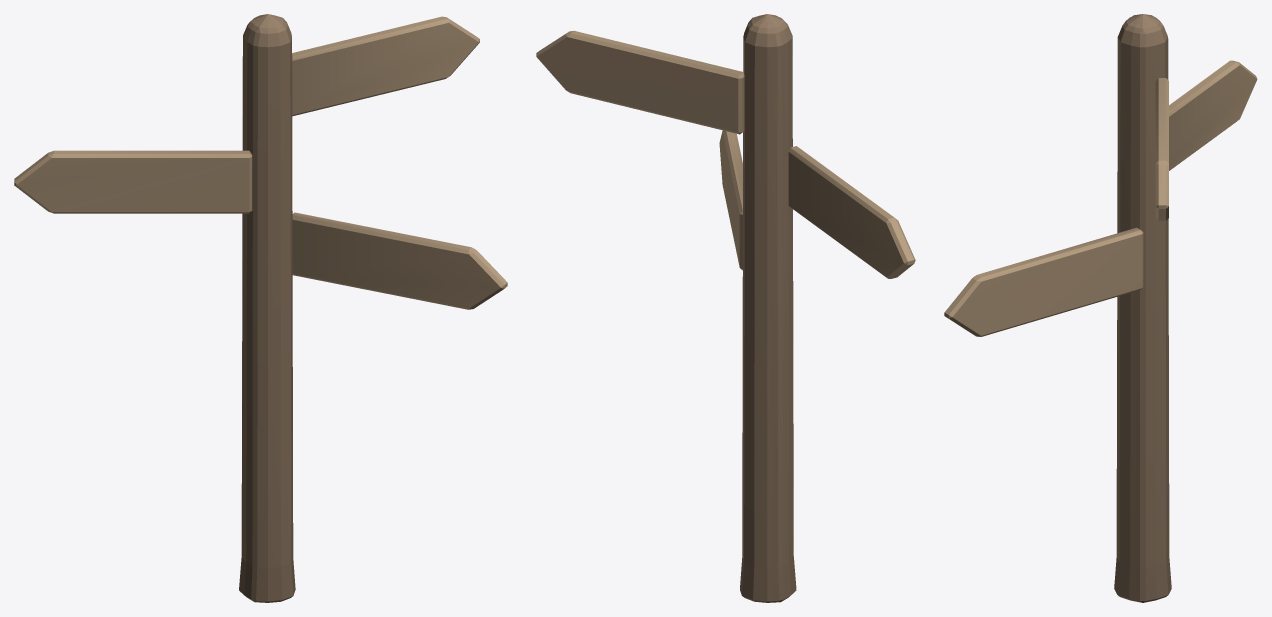
Rendered from sign_trail.glb.
3 views of the same model, side by side, from view 1: azimuth 30°, elevation 25°; view 2: azimuth 150°, elevation 25°; view 3: azimuth 270°, elevation 25° (orthographic).
Parts seen in each view (by area): view 1: sign_trail; view 2: sign_trail; view 3: sign_trail.
Boxes of the visible parts, x1=… form: sign_trail: x1=14, y1=14, x2=507, y2=602; sign_trail: x1=536, y1=14, x2=915, y2=602; sign_trail: x1=944, y1=14, x2=1257, y2=602.
Size of the model in its own units: 1.25 by 1.65 by 0.8081.
